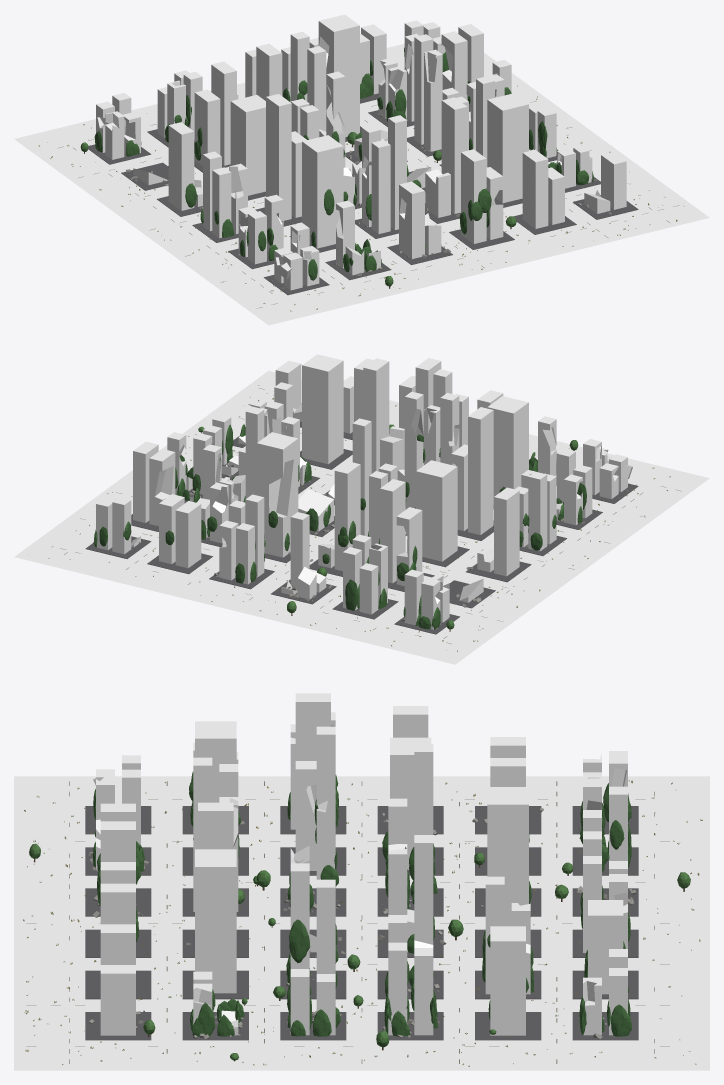
File: 3d-city.glb
3 views of the same model, one above another, from view 1: azimuth 30°, elevation 25°; view 2: azimuth 150°, elevation 25°; view 3: azimuth 270°, elevation 25° (orthographic). The views are drawn at different scales.
Visible parts, largest first — view 1: Ruined_Ground, Building.023, Building.066, Building.059, Building.026, Building.024, Building.056, Building.012, Building.064, Building.033, Building.071, Building.053 (+42 smaller); view 2: Ruined_Ground, Building.066, Building.059, Building.026, Building.024, Building.023, Building.056, Building.012, Building.047, Building.028, Building.040, Building.079 (+44 smaller); view 3: Ruined_Ground, Building.066, Building.059, Building.096, Building.040, Building.082, Building.080, Building.072, Building.026, Building.025, Building.023, Building.024 (+60 smaller).
Boxes of the visible parts, <box> form: Ruined_Ground: <box>14,31,709,325</box>; Building.023: <box>302,135,343,248</box>; Building.066: <box>487,93,528,203</box>; Building.059: <box>318,14,359,137</box>; Building.026: <box>230,95,265,195</box>; Building.024: <box>266,94,291,221</box>; Building.056: <box>441,97,467,213</box>; Building.012: <box>168,122,194,210</box>; Building.064: <box>522,149,548,228</box>; Building.033: <box>399,181,424,258</box>; Building.071: <box>424,49,442,151</box>; Building.053: <box>461,149,486,243</box>; Ruined_Ground: <box>14,370,709,664</box>; Building.066: <box>302,354,343,464</box>; Building.059: <box>257,432,298,557</box>; Building.026: <box>416,460,457,561</box>; Building.024: <box>468,407,493,534</box>; Building.023: <box>487,396,528,504</box>; Building.056: <box>363,358,389,473</box>; Building.012: <box>494,487,519,576</box>; Building.047: <box>334,461,360,570</box>; Building.028: <box>380,479,405,583</box>; Building.040: <box>404,391,423,509</box>; Building.079: <box>175,501,201,568</box>; Ruined_Ground: <box>14,776,709,1070</box>; Building.066: <box>195,849,236,993</box>; Building.059: <box>487,787,528,926</box>; Building.096: <box>490,933,525,1035</box>; Building.040: <box>316,726,335,879</box>; Building.082: <box>100,965,135,1035</box>; Building.080: <box>588,907,623,994</box>; Building.072: <box>414,835,433,944</box>; Building.026: <box>390,737,431,869</box>; Building.025: <box>295,761,316,870</box>; Building.023: <box>195,721,236,802</box>; Building.024: <box>295,693,330,760</box>.
Bounding box in the file's own units: 400 × 117 × 400.
